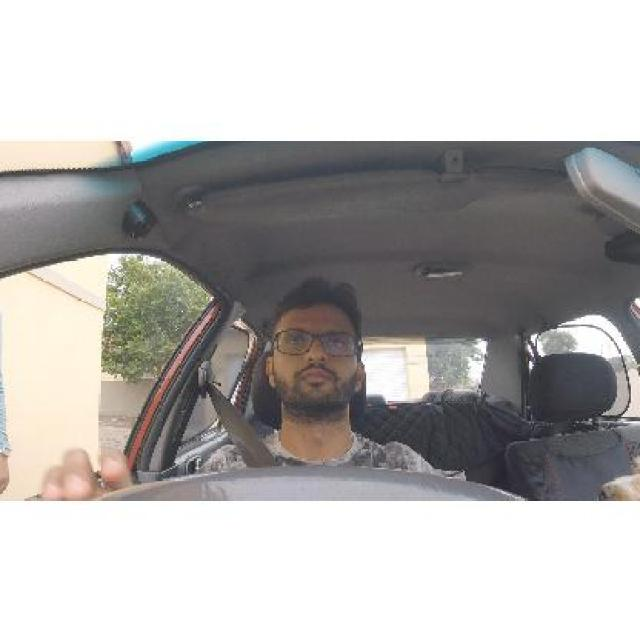person: (262, 263, 389, 442)
